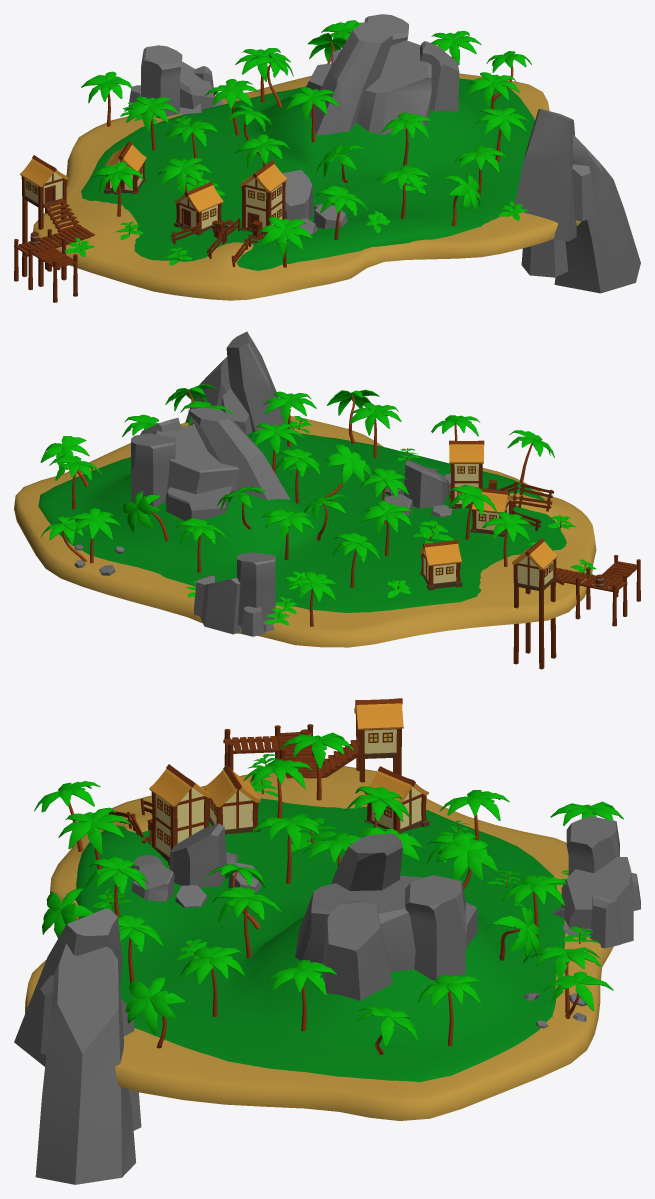
File: Zone1_Starter.fbx
3 renders of one model, top to bottom at view 1: azimuth 30°, elevation 25°; view 2: azimuth 150°, elevation 25°; view 3: azimuth 270°, elevation 25°, orthographic. The views are drawn at different scales.
Visible parts, largest first — view 1: island_starter, palm_tree_24, palm_tree_19, palm_tree_20, palm_tree_23, palm_tree_17, palm_tree_14, palm_tree_25, palm_tree_15, palm_tree_30, palm_tree_18, palm_tree_22 (+9 smaller); view 2: island_starter, palm_tree_13, palm_tree_26, palm_tree_31, palm_tree_12, palm_tree_15, palm_tree_14, palm_tree_16, palm_tree_19, palm_tree_23, palm_tree_24, palm_tree_18 (+8 smaller); view 3: island_starter, palm_tree_28, palm_tree_25, palm_tree_20, palm_tree_15, palm_tree_17, palm_tree_22, palm_tree_12, palm_tree_31, palm_tree_30, palm_tree_18, palm_tree_21 (+7 smaller).
Boxes of the visible parts, box(x1,y1,x2,y2) form: island_starter: box(14, 14, 640, 302); palm_tree_24: box(124, 96, 178, 150); palm_tree_19: box(286, 87, 338, 142); palm_tree_20: box(475, 108, 529, 162); palm_tree_23: box(157, 158, 211, 193); palm_tree_17: box(467, 72, 520, 114); palm_tree_14: box(205, 79, 259, 135); palm_tree_25: box(316, 185, 367, 239); palm_tree_15: box(381, 112, 431, 165); palm_tree_30: box(443, 173, 480, 226); palm_tree_18: box(235, 134, 289, 167); palm_tree_22: box(431, 31, 481, 64); island_starter: box(14, 331, 640, 669); palm_tree_13: box(360, 500, 412, 555); palm_tree_26: box(324, 444, 371, 497); palm_tree_31: box(123, 490, 168, 541); palm_tree_12: box(349, 402, 401, 458); palm_tree_15: box(249, 423, 303, 474); palm_tree_14: box(261, 509, 313, 559); palm_tree_16: box(263, 391, 316, 446); palm_tree_19: box(273, 448, 321, 503); palm_tree_23: box(448, 484, 496, 539); palm_tree_24: box(332, 532, 379, 587); palm_tree_18: box(360, 468, 408, 523); island_starter: box(14, 698, 640, 1184); palm_tree_28: box(436, 831, 497, 889); palm_tree_25: box(58, 807, 130, 869); palm_tree_20: box(180, 947, 244, 1017); palm_tree_15: box(212, 887, 281, 958); palm_tree_17: box(266, 960, 336, 1031); palm_tree_22: box(417, 974, 481, 1046); palm_tree_12: box(84, 857, 148, 916); palm_tree_31: box(493, 899, 539, 963); palm_tree_30: box(42, 888, 93, 938); palm_tree_18: box(252, 813, 323, 883); palm_tree_21: box(501, 875, 567, 937).
Bounding box in the file's own units: 15707 × 5270 × 11495.
